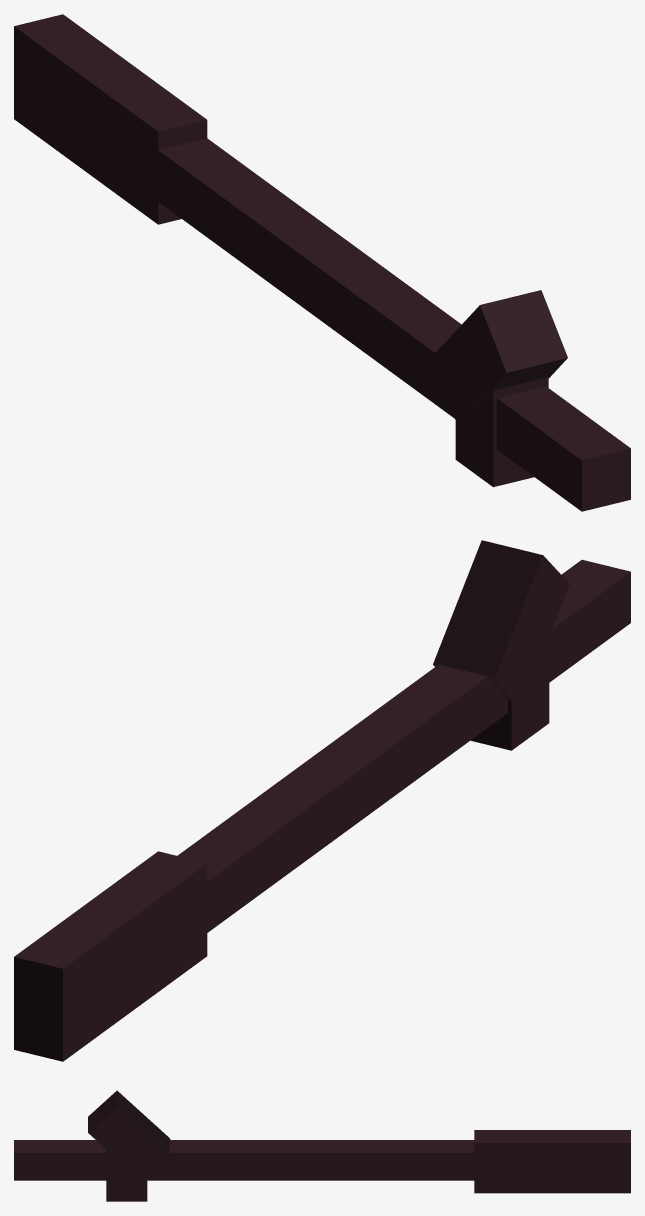
File: sword_default.obj
3 renders of one model, top to bottom at view 1: azimuth 30°, elevation 25°; view 2: azimuth 150°, elevation 25°; view 3: azimuth 270°, elevation 25°, orthographic. The views are drawn at different scales.
Parts seen in each view (by area): view 1: cube; view 2: cube; view 3: cube.
Part boxes in pixels (box(x1,y1,x2,y2)): cube: box(14, 14, 630, 511); cube: box(14, 540, 630, 1061); cube: box(14, 1090, 630, 1201).
Bounding box in the file's own units: 0.1088 × 0.2976 × 1.74.
